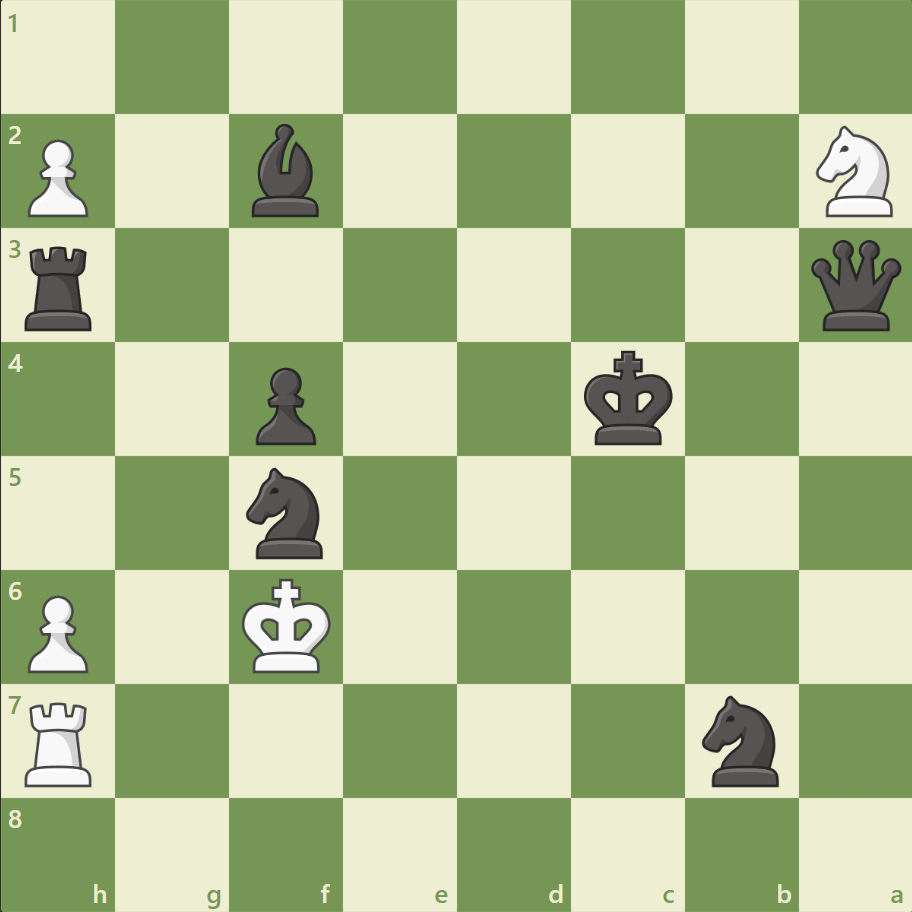K: (238, 571, 338, 679)
N: (806, 121, 903, 223)
P: (20, 586, 95, 677), (20, 132, 95, 223)
R: (19, 693, 102, 790)
b: (244, 120, 328, 222)
k: (579, 344, 679, 452)
n: (692, 688, 789, 791), (238, 461, 335, 564)
p: (247, 359, 322, 450)
q: (805, 236, 904, 335)
r: (19, 239, 102, 336)
